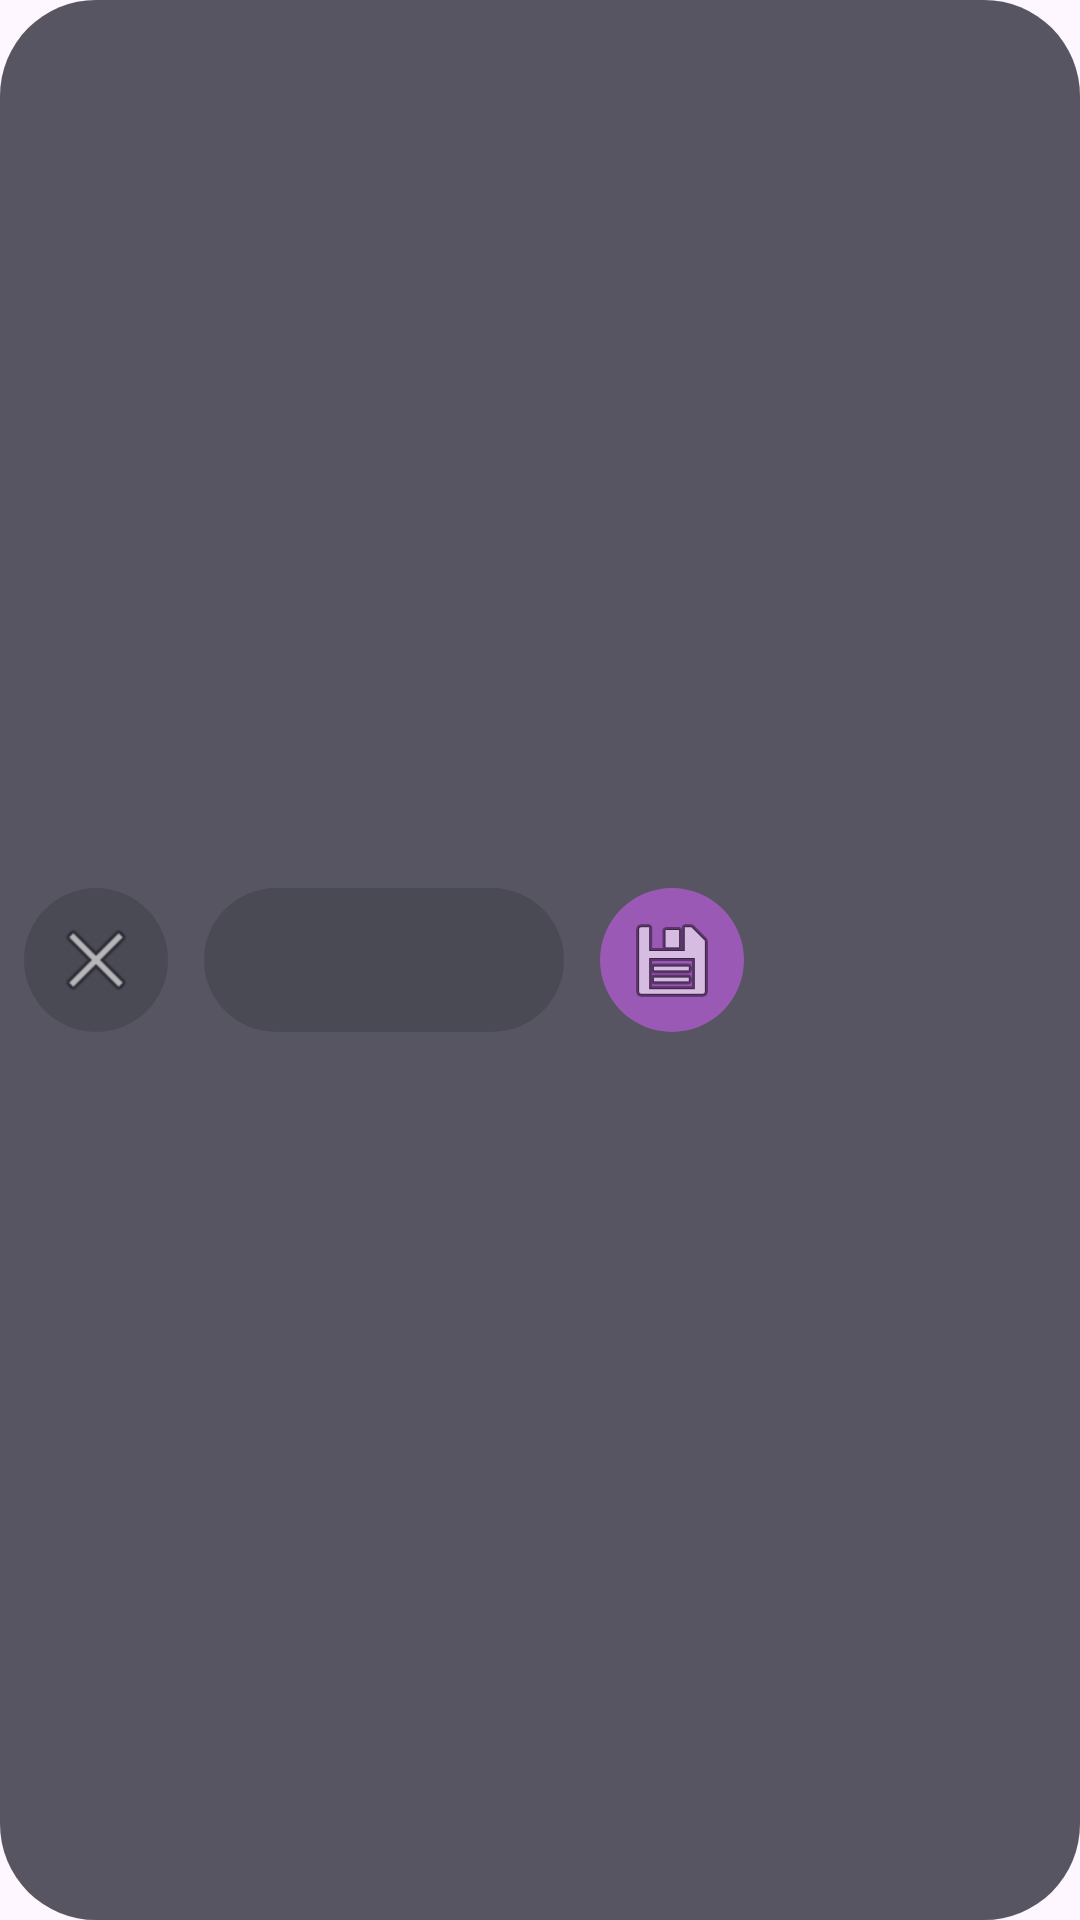

Named icons in this screenshot (1080×1920) and their bounding boxes, (x1, y1, x2, y2):
Accept: (600, 888, 744, 1032)
Cancel: (24, 888, 168, 1032)
